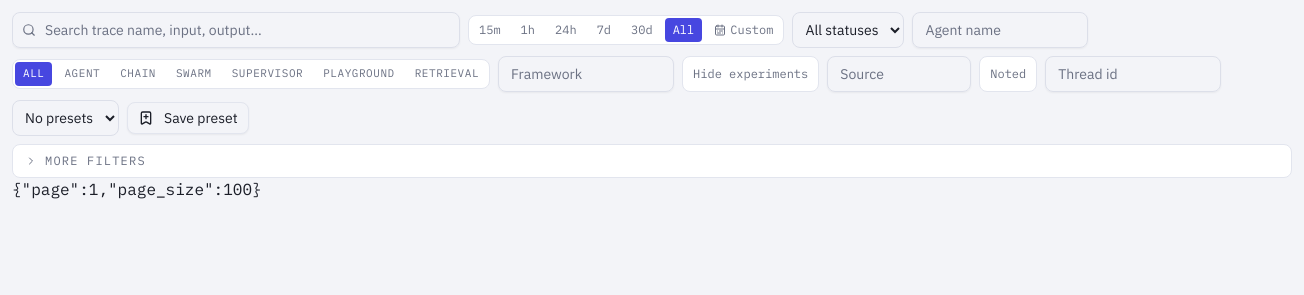
Test: TraceFiltersBar (Sprint 3) › opens the disclosure when the toggle is fireEvent-clicked
Click the button "More filters": (95, 160) 13,145 -> 1291,177
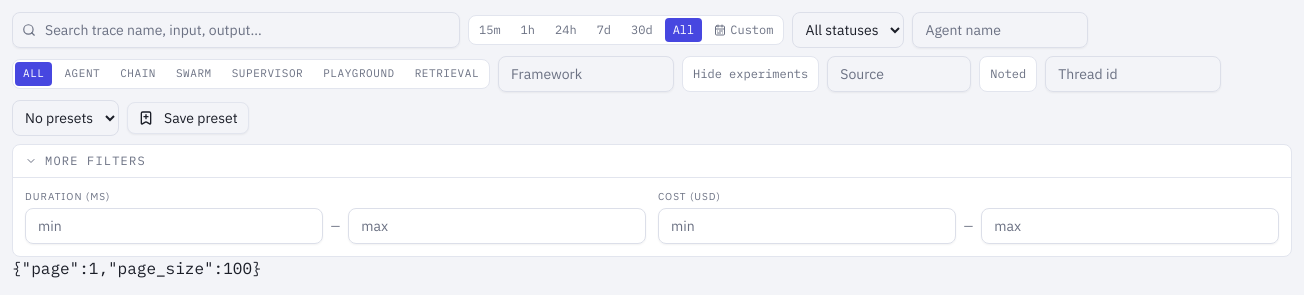
Now the text "Duration (ms)" is shown, box 25,190 -> 110,203
Now the text "Cost (USD)" is shown, box 658,190 -> 721,203
